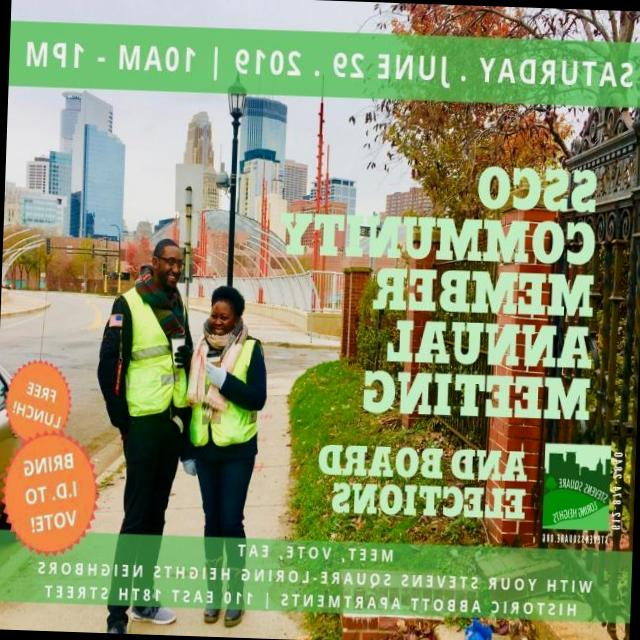boots: (126, 588, 178, 629)
vest: (120, 288, 180, 417), (203, 338, 264, 448)
